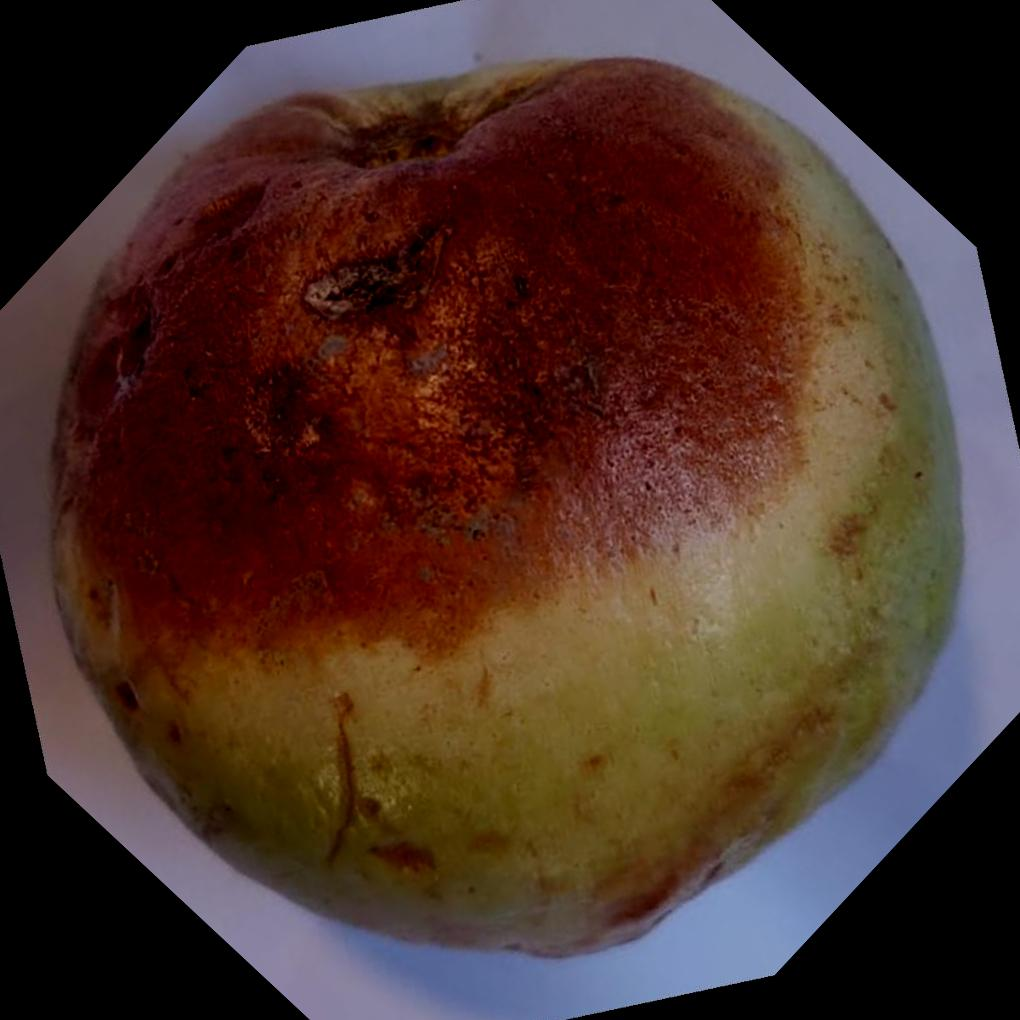FreshOrange: (43, 55, 965, 964)
